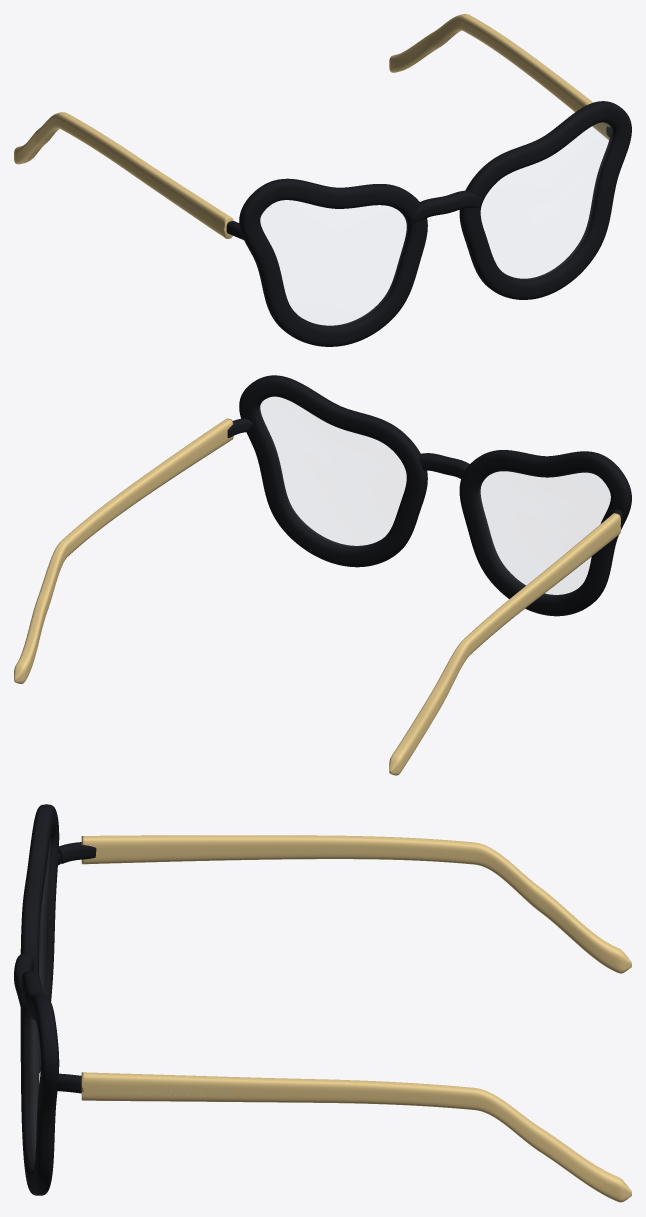
Rendered from prod-sun-w2.glb.
3 views of the same model, one above another, from view 1: azimuth 30°, elevation 25°; view 2: azimuth 150°, elevation 25°; view 3: azimuth 270°, elevation 25° (orthographic). The views are drawn at different scales.
Parts seen in each view (by area): view 1: Frame rim -1, Frame rim 1, Temple -1, Temple 1, Bridge; view 2: Frame rim 1, Frame rim -1, Temple -1, Temple 1, Bridge; view 3: Temple 1, Temple -1, Frame rim 1, Frame rim -1, Hinge -1.
Boxes of the visible parts, left/top/right/bottom form: Frame rim -1: left=239, top=178, right=427, bottom=346; Frame rim 1: left=459, top=101, right=631, bottom=299; Temple -1: left=14, top=112, right=233, bottom=238; Temple 1: left=389, top=14, right=609, bottom=139; Bridge: left=410, top=190, right=483, bottom=223; Frame rim 1: left=239, top=375, right=427, bottom=567; Frame rim -1: left=459, top=450, right=631, bottom=616; Temple -1: left=389, top=513, right=620, bottom=775; Temple 1: left=14, top=418, right=233, bottom=683; Bridge: left=419, top=453, right=469, bottom=478; Temple 1: left=81, top=1072, right=631, bottom=1202; Temple -1: left=81, top=835, right=631, bottom=973; Frame rim 1: left=20, top=971, right=59, bottom=1195; Frame rim -1: left=20, top=804, right=59, bottom=1072; Hinge -1: left=58, top=842, right=96, bottom=865.
Size of the model in its own units: 0.136 by 0.0555 by 0.1415.
